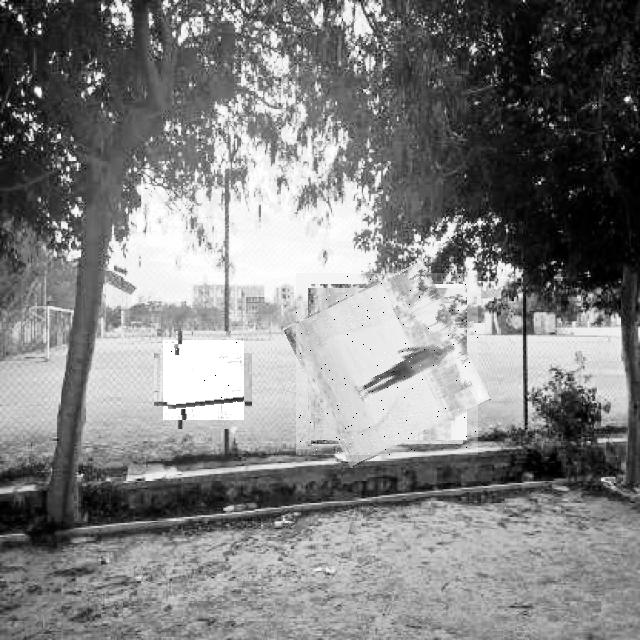anomaly-fence: (296, 273, 478, 455), (163, 340, 244, 420)
